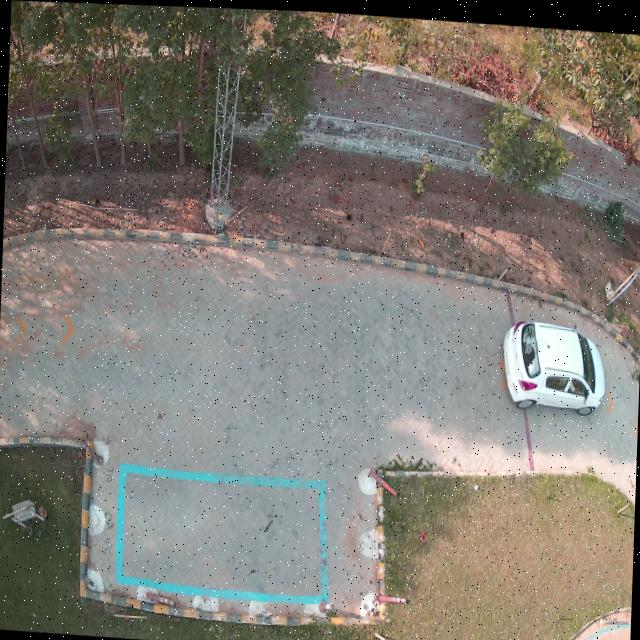car: (502, 316, 603, 411)
